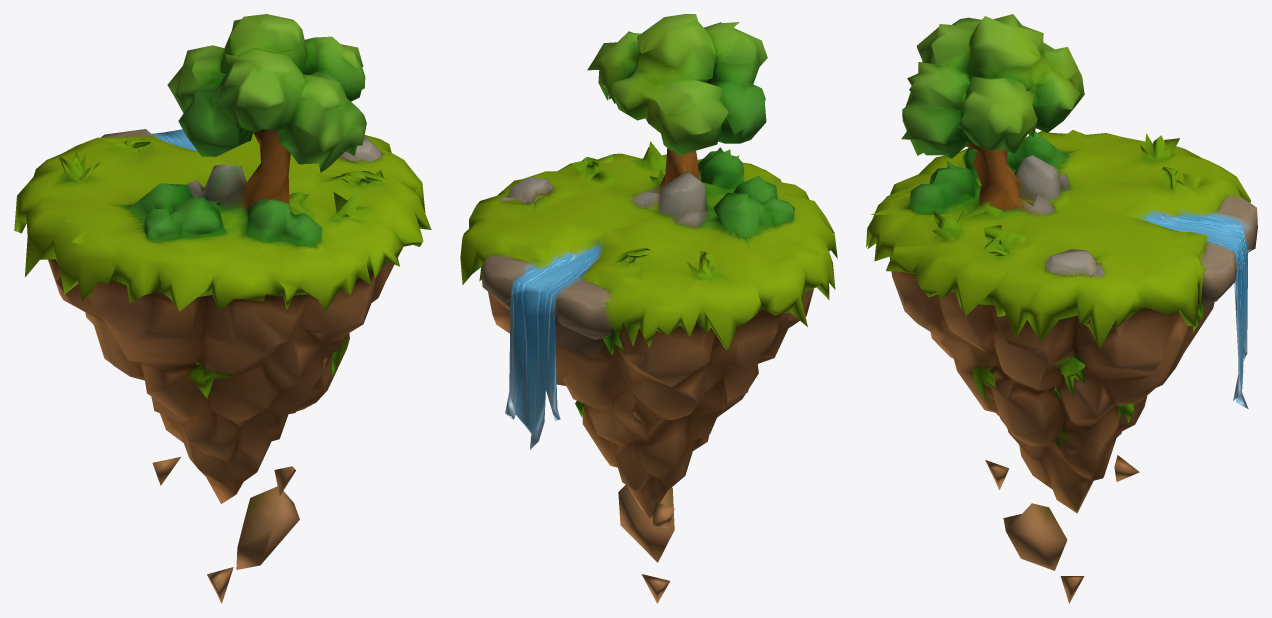
The model's file is island.glb.
3 views of the same model, side by side, from view 1: azimuth 30°, elevation 25°; view 2: azimuth 150°, elevation 25°; view 3: azimuth 270°, elevation 25° (orthographic). The views are drawn at different scales.
Visible parts, largest first — view 1: tripo_node_570fe946-2c85-4bc1-bf09-6e2d18ee36fd; view 2: tripo_node_570fe946-2c85-4bc1-bf09-6e2d18ee36fd; view 3: tripo_node_570fe946-2c85-4bc1-bf09-6e2d18ee36fd.
Part boxes in pixels (x1,y1,x2,y2): tripo_node_570fe946-2c85-4bc1-bf09-6e2d18ee36fd: (14, 14, 431, 603); tripo_node_570fe946-2c85-4bc1-bf09-6e2d18ee36fd: (460, 14, 837, 603); tripo_node_570fe946-2c85-4bc1-bf09-6e2d18ee36fd: (866, 14, 1257, 603).
Bounding box in the file's own units: 0.634 × 1 × 0.6032.
Materials: 1 (1 with a texture image).
